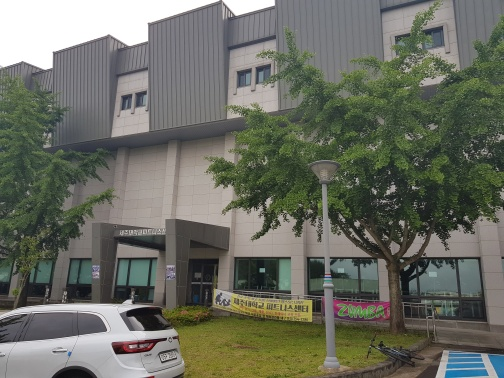Gym: (25, 2, 493, 301), (47, 12, 238, 142), (81, 199, 230, 296)
